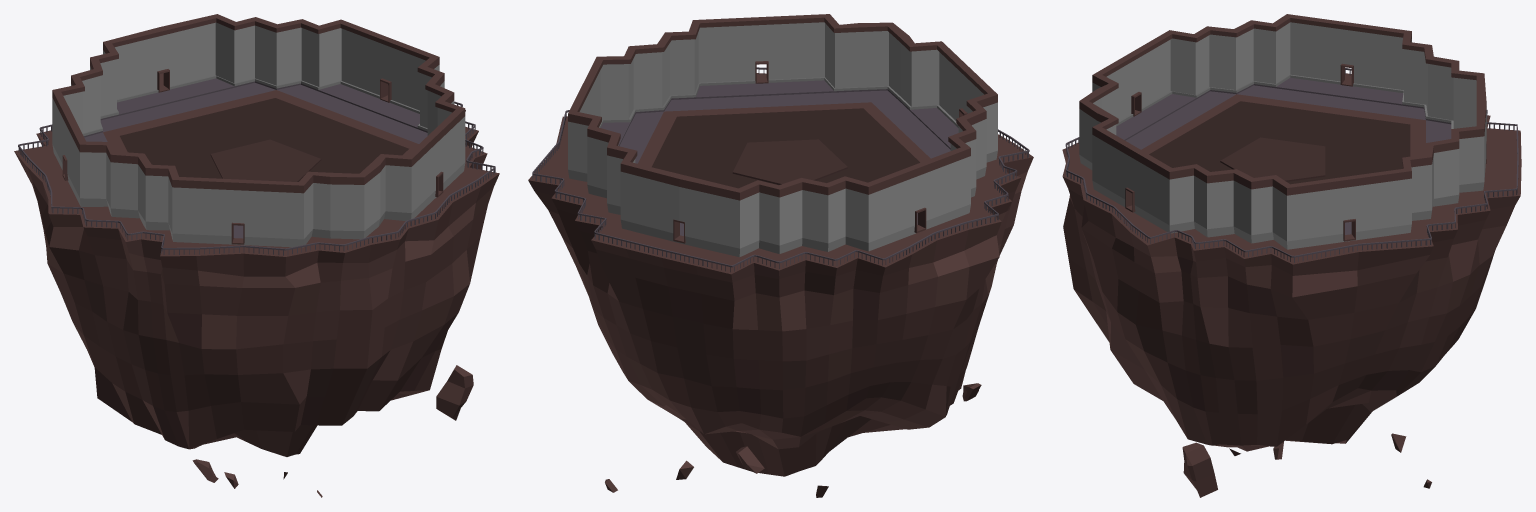
The model's file is gallery_island.glb.
3 views of the same model, side by side, from view 1: azimuth 30°, elevation 25°; view 2: azimuth 150°, elevation 25°; view 3: azimuth 270°, elevation 25° (orthographic). The views are drawn at different scales.
Visible parts, largest first — view 1: Island; view 2: Island; view 3: Island.
Part boxes in pixels (x1,y1,x2,y2): Island: (14,14,499,497); Island: (528,14,1033,497); Island: (1062,14,1521,497).
Size of the model in its own units: 33.87 by 29.01 by 32.33.
